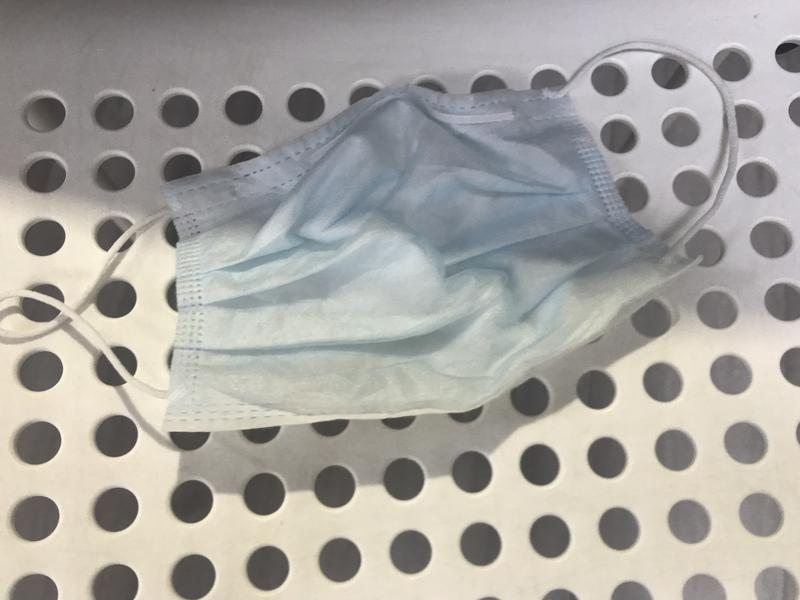medical_mask: (4, 40, 738, 434)
